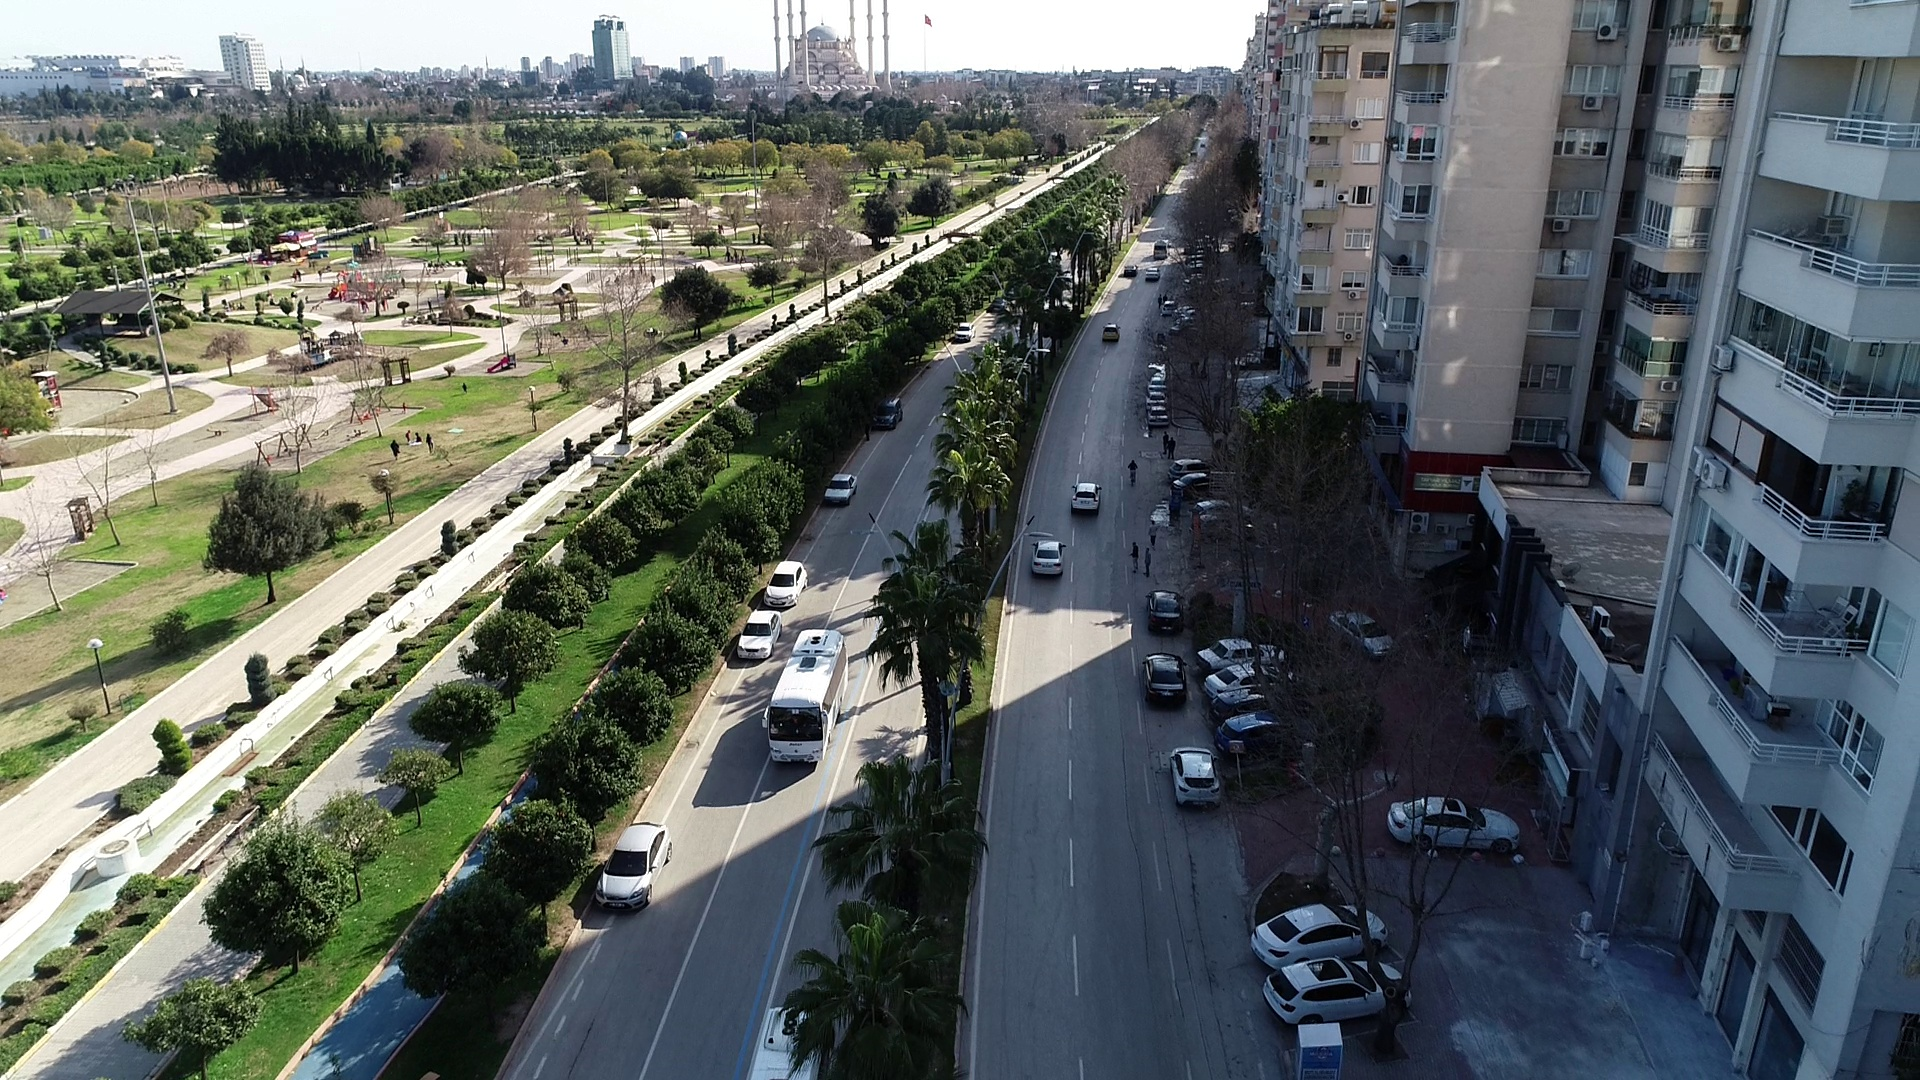bus: (762, 630, 850, 765), (1149, 235, 1176, 263)
car: (1262, 957, 1422, 1023), (1247, 897, 1388, 967), (592, 818, 677, 917), (1386, 791, 1513, 856), (1325, 606, 1405, 670), (1170, 744, 1223, 815), (1195, 635, 1295, 671), (1140, 649, 1192, 716), (760, 554, 813, 610), (736, 608, 785, 665), (1192, 512, 1265, 548), (1145, 586, 1190, 643), (1026, 537, 1069, 580), (1066, 477, 1107, 523), (822, 472, 860, 510), (871, 397, 905, 432), (1144, 404, 1176, 428), (950, 319, 976, 346), (1098, 322, 1124, 345), (1143, 391, 1172, 407), (1143, 263, 1162, 285), (1121, 264, 1143, 281)
person: (1127, 539, 1143, 577), (1144, 516, 1161, 553), (386, 435, 403, 465), (1141, 547, 1153, 582), (423, 430, 437, 459), (1167, 436, 1179, 460), (1160, 428, 1170, 459), (403, 428, 415, 446), (1156, 292, 1162, 311)
